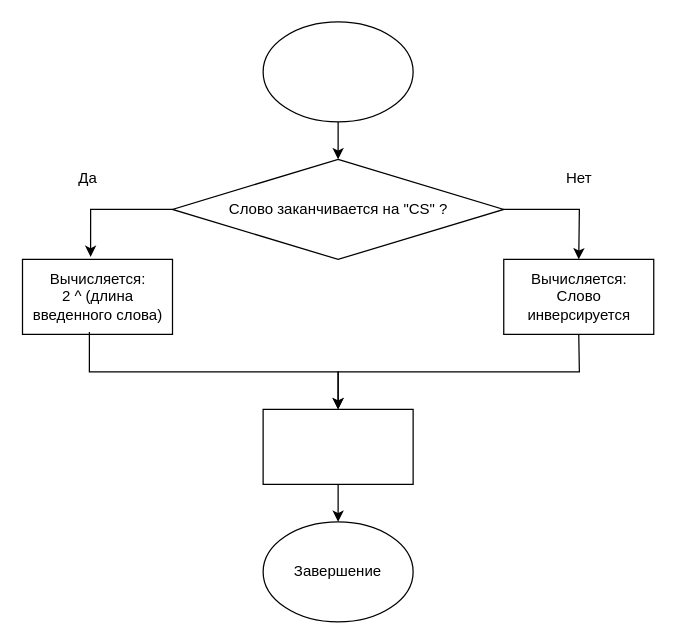
Some shapes in this 675 by 644 pixel diagram are drawn without their labels. The centre of each missing label's shape, as x and y in pixels:
"Вывод результата на экран" goes at (x=337, y=446).
"Старт" goes at (x=337, y=71).
